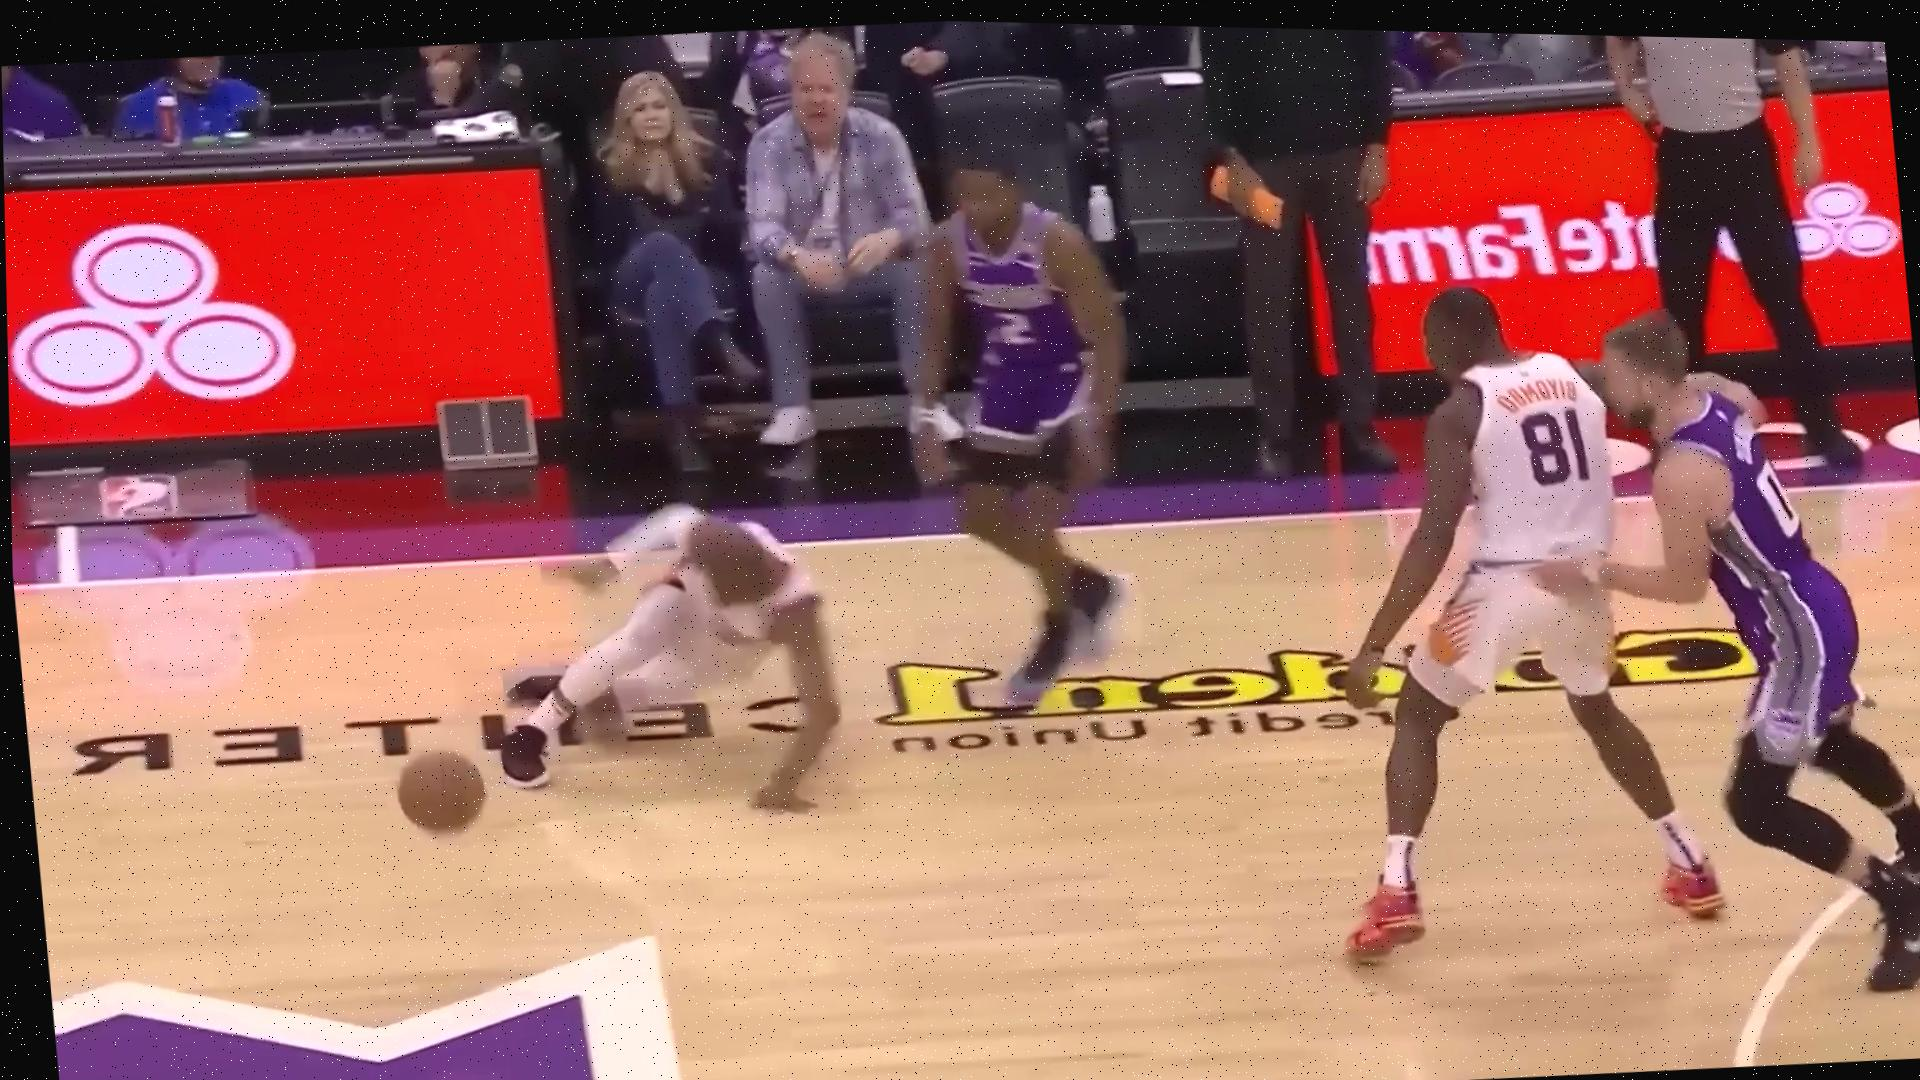no_foul: (1249, 256, 1920, 1017)
